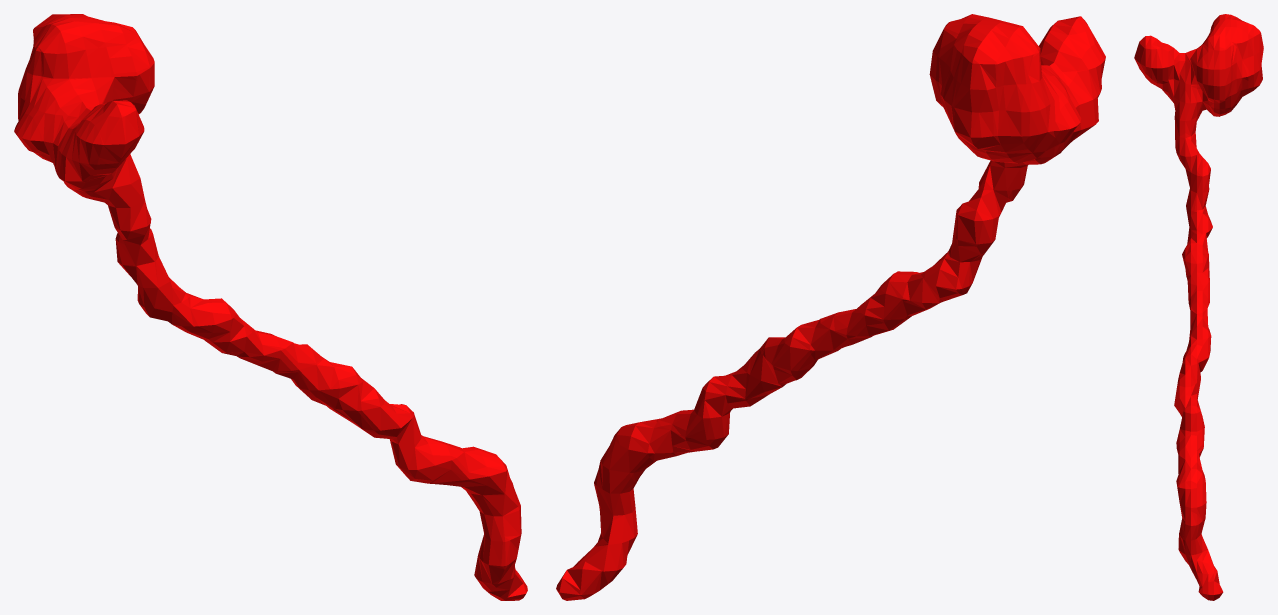
Rendered from hisI_coarse.dae.
The picture shows the model from 3 angles, left to right: view 1: azimuth 30°, elevation 25°; view 2: azimuth 150°, elevation 25°; view 3: azimuth 270°, elevation 25°; orthographic projection. The views are drawn at different scales.
Parts seen in each view (by area): view 1: hisI; view 2: hisI; view 3: hisI.
Part boxes in pixels (box(x1,y1,x2,y2)): hisI: box(14, 14, 527, 600); hisI: box(556, 14, 1105, 600); hisI: box(1134, 14, 1263, 600).
Bounding box in the file's own units: 150 × 191 × 50.64.
